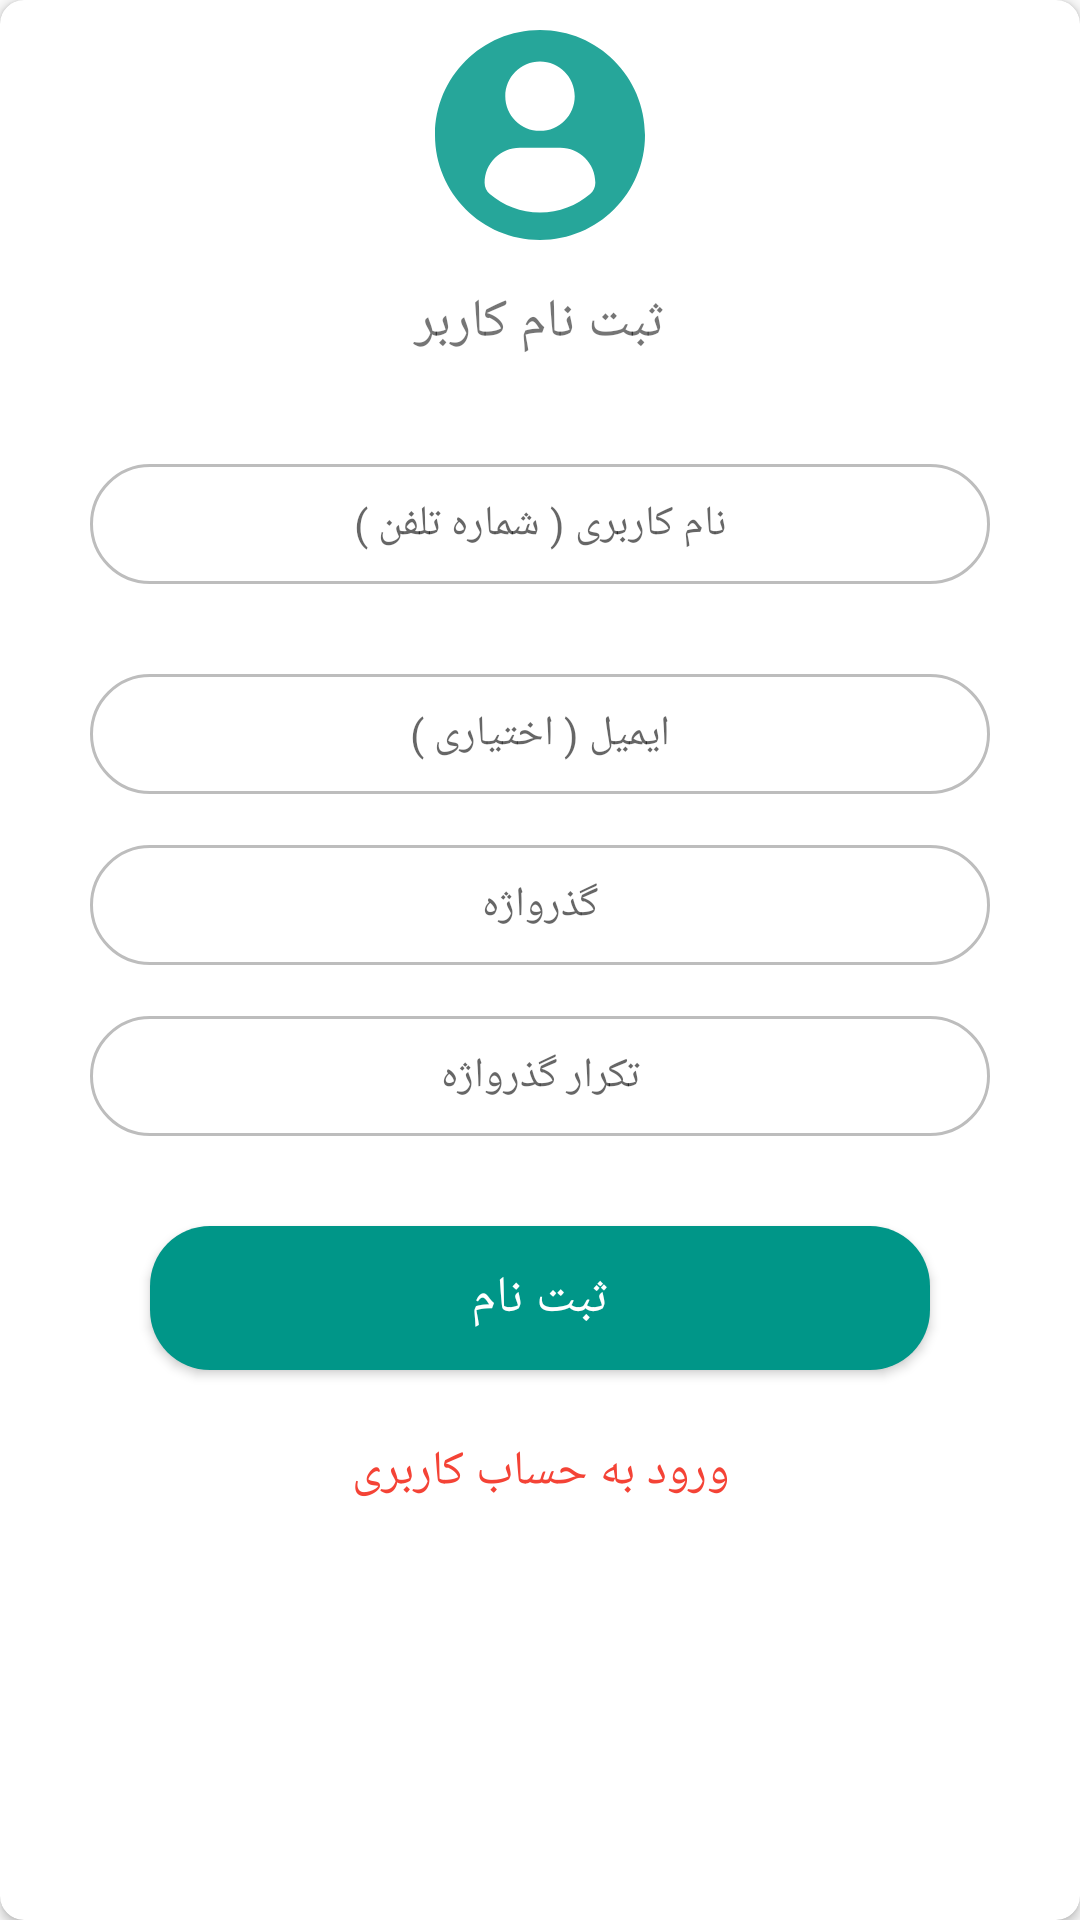

Screen size 1080 x 1920. Icon name, then its box in pixels as (x1, y1, x2, y2):
profile user: (435, 30, 645, 240)
